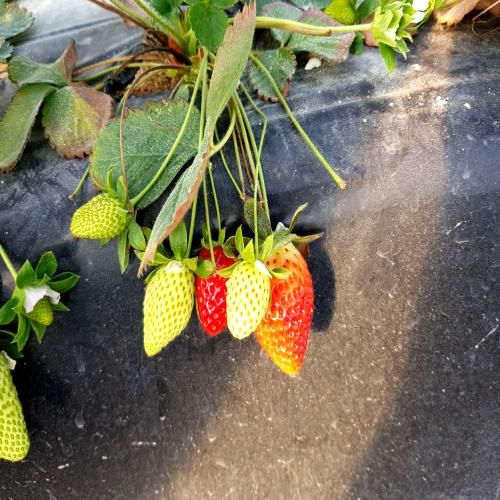partially-ripe: (252, 236, 316, 385)
ripe: (190, 232, 254, 344)
